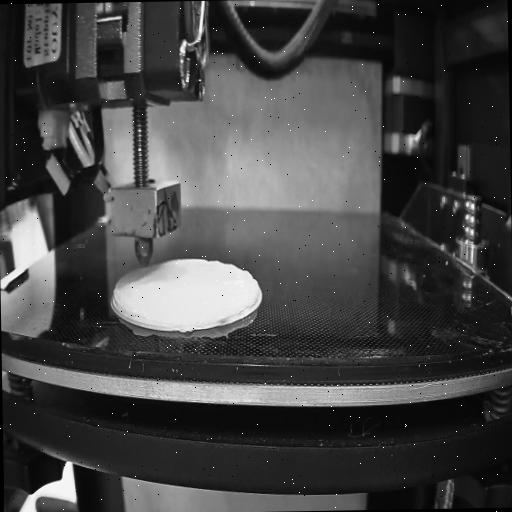over_extrusion: (112, 272, 136, 320), (242, 264, 260, 308)
